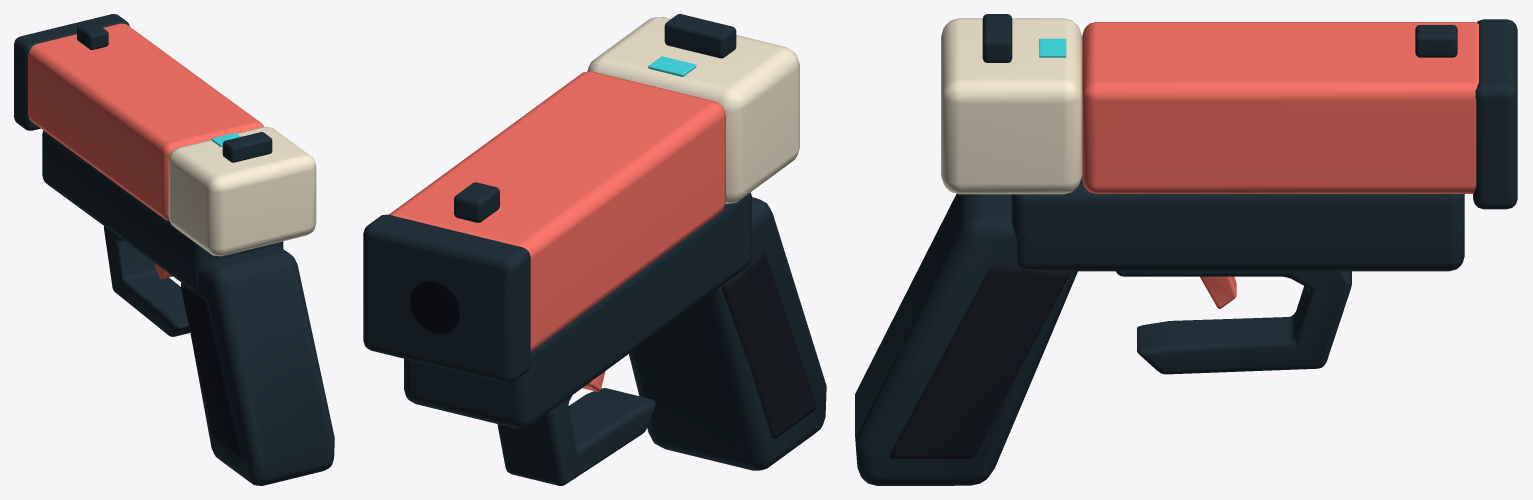
File: pistol_coral_stub.glb
3 views of the same model, side by side, from view 1: azimuth 30°, elevation 25°; view 2: azimuth 150°, elevation 25°; view 3: azimuth 270°, elevation 25° (orthographic). The views are drawn at different scales.
Parts seen in each view (by area): view 1: CoralSlide, AngledGrip, CreamRearCap, LowerFrame, TriggerGuard, GripInsert, MuzzleCollar, RearSight, FrontSight; view 2: CoralSlide, LowerFrame, AngledGrip, MuzzleCollar, CreamRearCap, TriggerGuard, GripInsert, RearSight, MuzzleAperture, FrontSight, TopStatusInsert; view 3: CoralSlide, LowerFrame, AngledGrip, CreamRearCap, GripInsert, TriggerGuard, MuzzleCollar, RearSight, FrontSight, TriggerVisual.
Boxes of the visible parts, x1,y1,x2,y2 form: CoralSlide: (28,23,263,220); AngledGrip: (182,246,334,485); CreamRearCap: (168,127,316,256); LowerFrame: (42,130,283,292); TriggerGuard: (104,226,190,336); GripInsert: (181,283,243,460); MuzzleCollar: (14,14,129,130); RearSight: (222,132,272,162); FrontSight: (77,22,108,49); CoralSlide: (389,71,725,351); LowerFrame: (404,192,751,428); AngledGrip: (629,197,826,470); MuzzleCollar: (363,214,530,383); CreamRearCap: (587,17,799,203); TriggerGuard: (497,388,655,485); GripInsert: (722,251,816,439); RearSight: (664,14,736,58); MuzzleAperture: (410,281,459,334); FrontSight: (454,182,499,222); TopStatusInsert: (648,56,696,76); CoralSlide: (1082,22,1478,193); LowerFrame: (1011,176,1464,271); AngledGrip: (855,194,1077,485); CreamRearCap: (941,18,1082,194); GripInsert: (889,265,1069,458); TriggerGuard: (1116,271,1351,374); MuzzleCollar: (1473,19,1517,209); RearSight: (982,14,1012,62); FrontSight: (1415,25,1457,57); TriggerVisual: (1200,276,1236,308).
Bounding box in the file's own units: 0.15 × 0.409 × 0.564.
